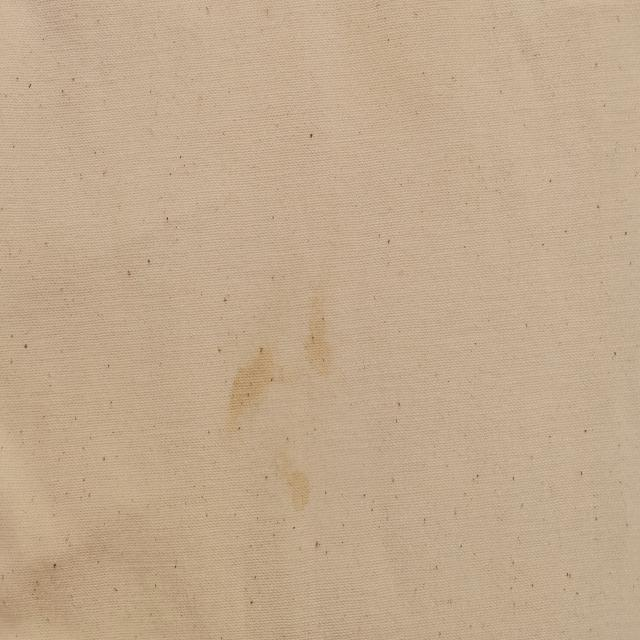taaaches: (226, 322, 284, 441), (302, 296, 336, 384), (283, 463, 316, 518)
